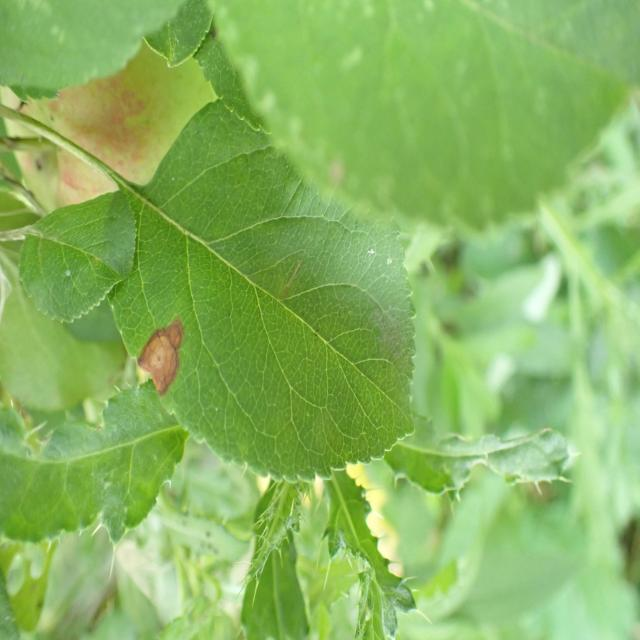Black Rot: (133, 295, 194, 409)
